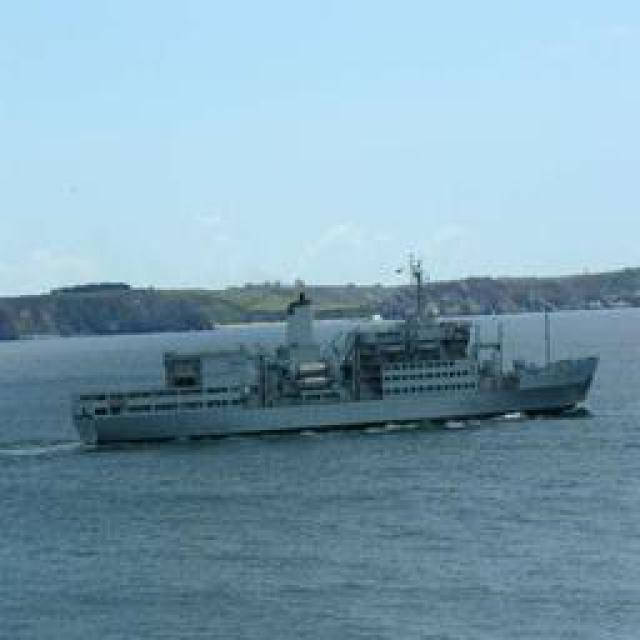Ship: (72, 349, 595, 444)
